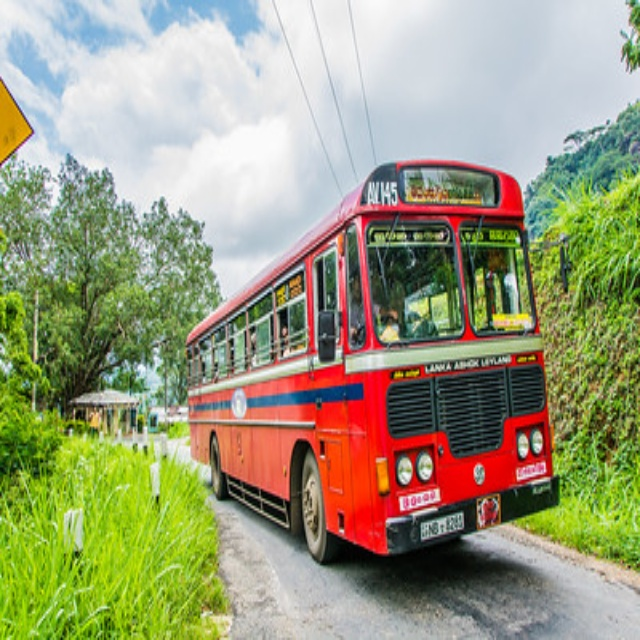Bus: (186, 158, 562, 568)
